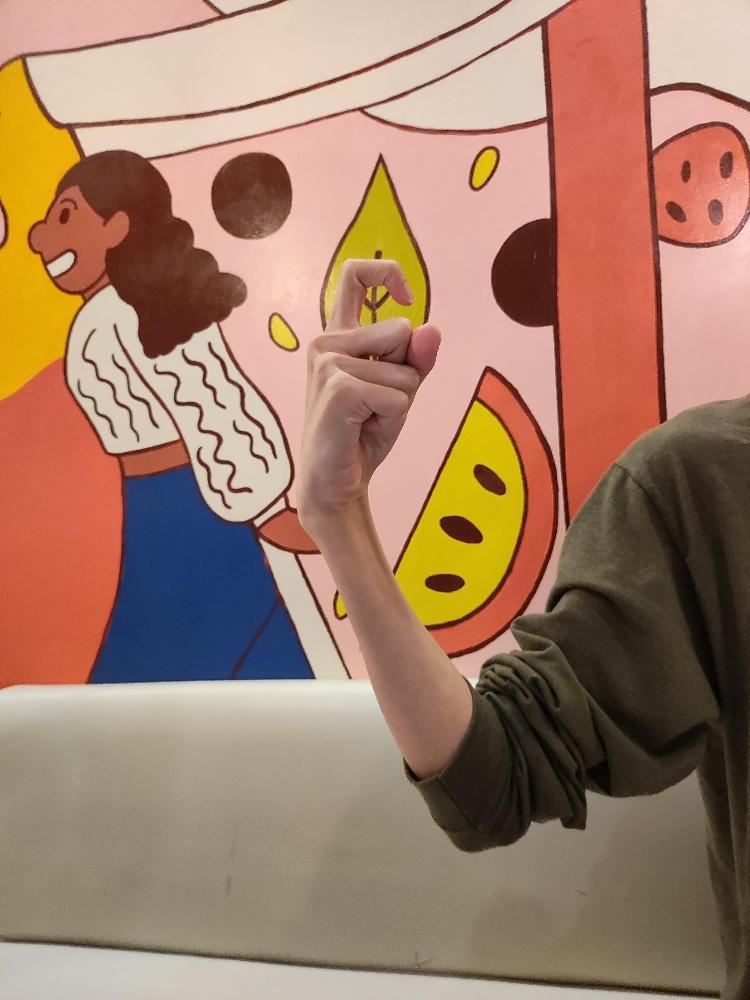x: (292, 255, 445, 528)
